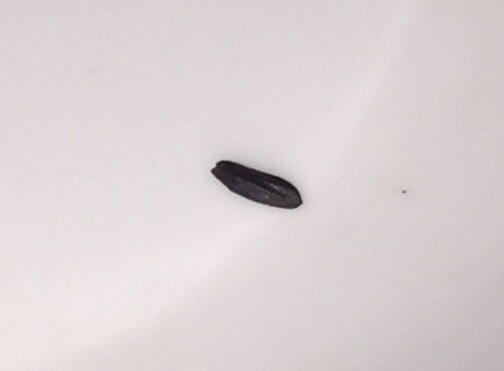Gao Nep Cam: (211, 152, 304, 211)
